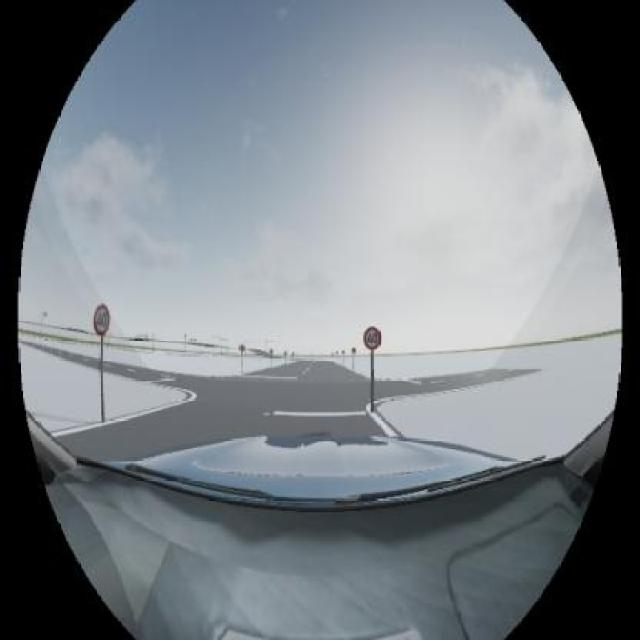forb_speed_over_40: (93, 302, 110, 336), (364, 326, 381, 351)
